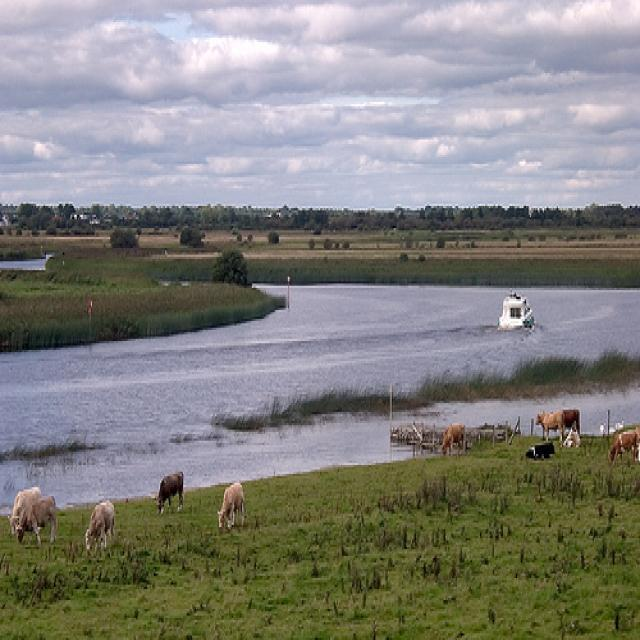cow: (14, 494, 54, 545), (4, 483, 41, 531), (83, 496, 114, 549), (214, 479, 244, 530), (153, 467, 185, 512), (607, 427, 637, 463), (534, 405, 563, 441), (441, 421, 464, 454), (524, 437, 556, 459), (562, 405, 578, 434), (558, 423, 579, 445)
